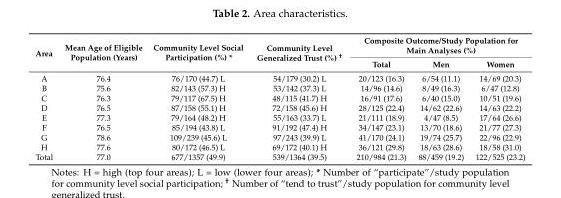table: (34, 35, 524, 161)
table column: (147, 35, 249, 161), (249, 35, 348, 161), (58, 35, 147, 161), (348, 35, 411, 161), (411, 35, 468, 161), (468, 35, 524, 161), (34, 35, 58, 161)
table column header: (34, 35, 524, 70)
table row: (34, 35, 524, 56), (34, 56, 524, 70), (34, 70, 524, 82), (34, 82, 524, 92), (34, 92, 524, 102), (34, 102, 524, 112), (34, 112, 524, 122), (34, 131, 524, 141), (34, 141, 524, 151), (34, 151, 524, 161), (34, 122, 524, 131)
table spanning cell: (348, 35, 524, 56), (147, 35, 249, 70), (249, 35, 348, 70), (58, 35, 147, 70), (34, 35, 58, 70)
